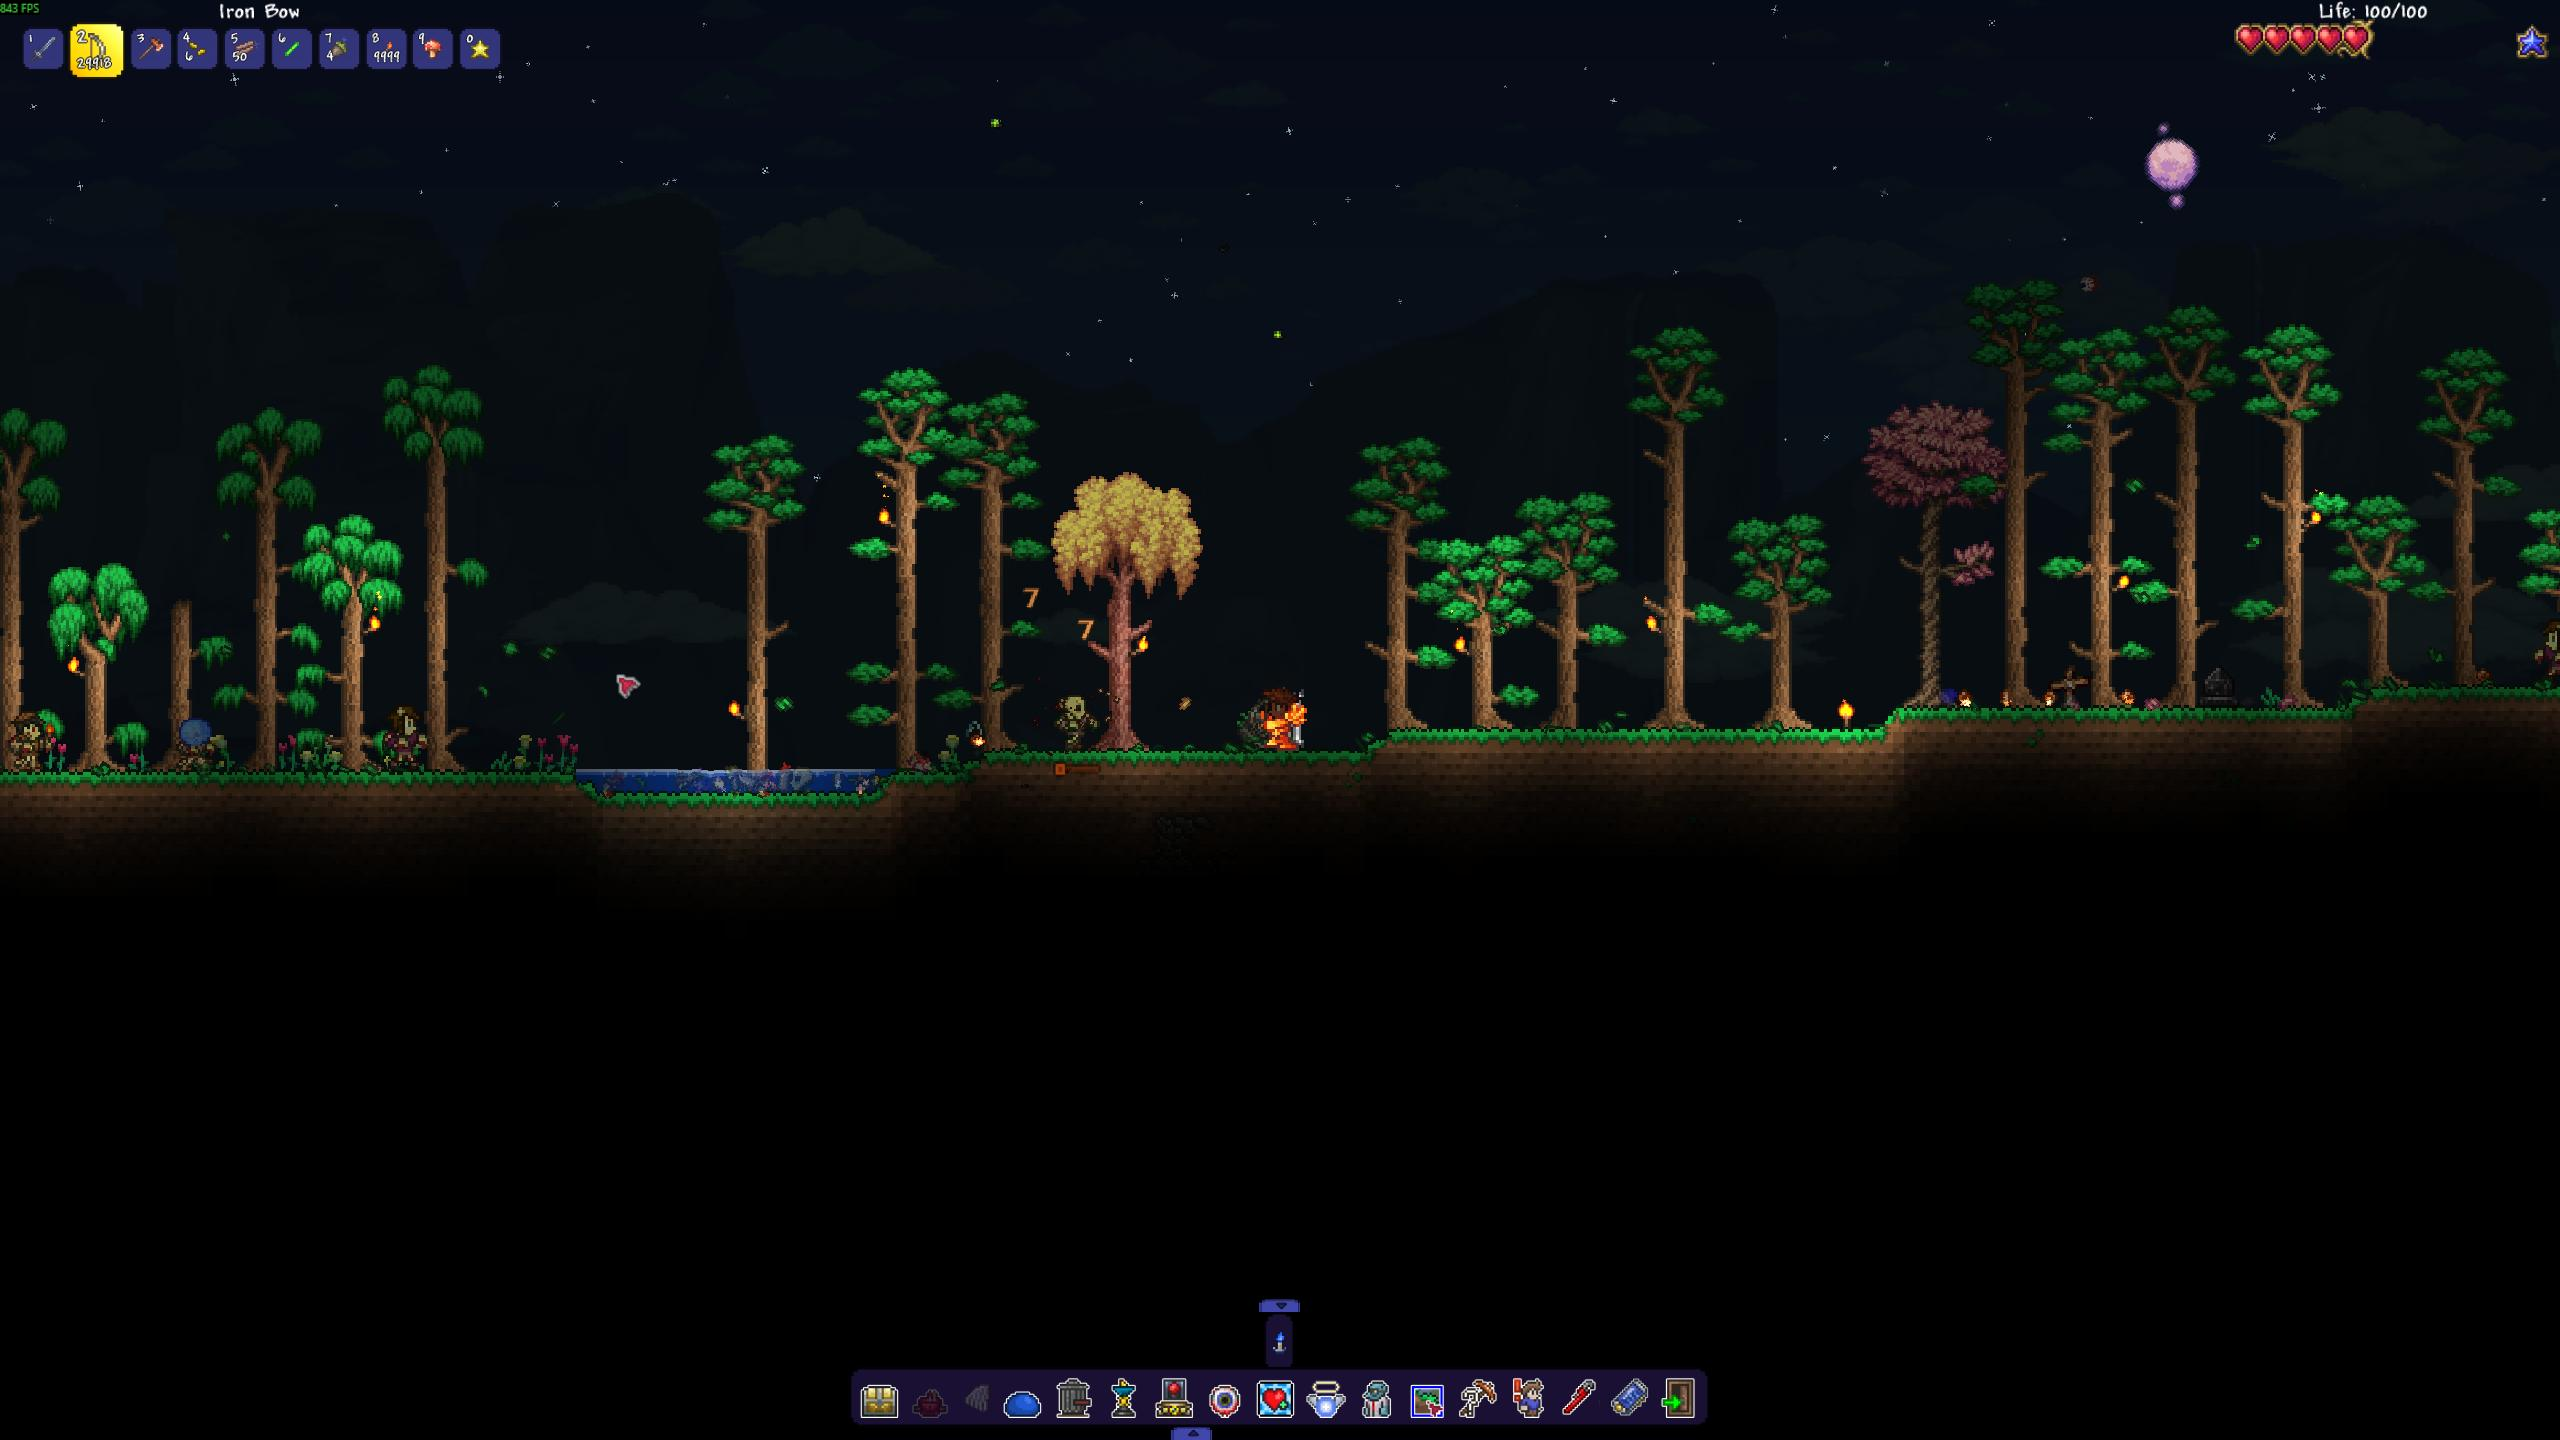Zombie: (382, 696, 431, 772), (1051, 689, 1101, 754), (7, 709, 55, 772), (178, 716, 220, 774), (2532, 614, 2560, 684)
